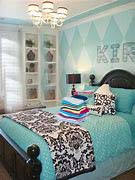removal: (33, 40, 92, 82)
